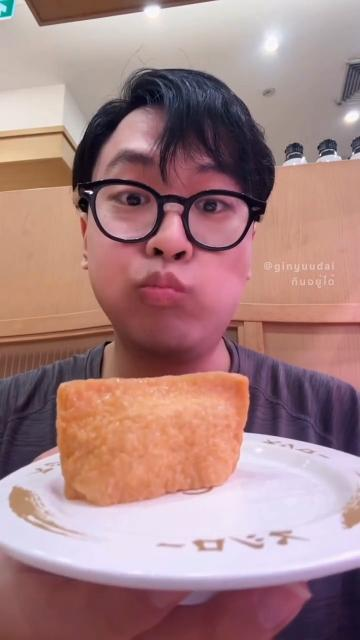janwhite: (0, 477, 360, 579)
